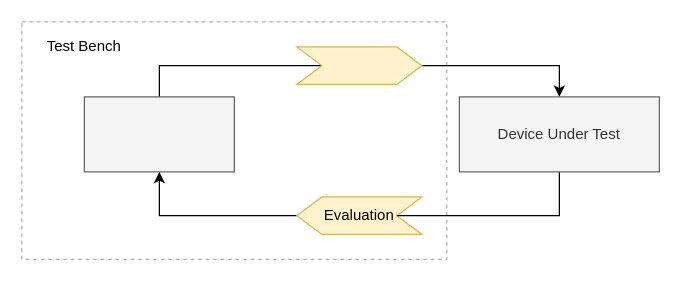
Image size: 681x281. Some labels were removed from this diagram. Each missing label, with the centre of its shape:
pyboard: point (158, 134)
Stimulus: point (359, 65)
